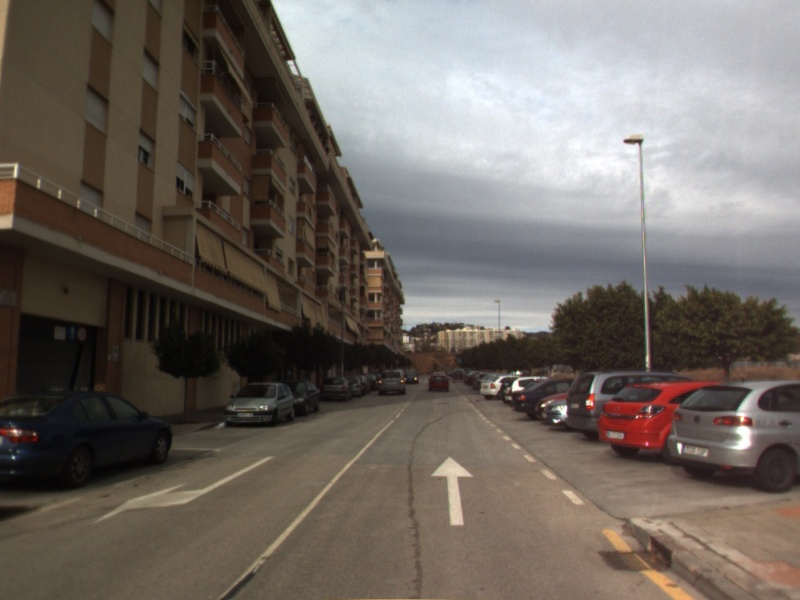STRAIGHT: (429, 454, 475, 528)
